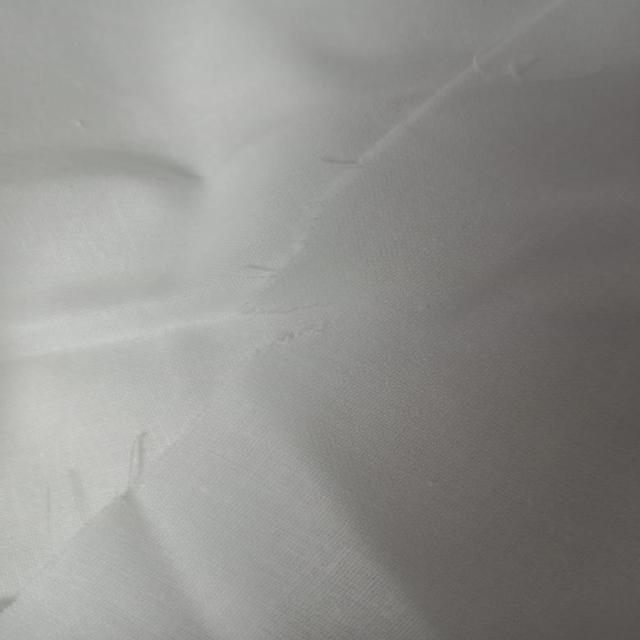cut: (224, 298, 346, 348)
